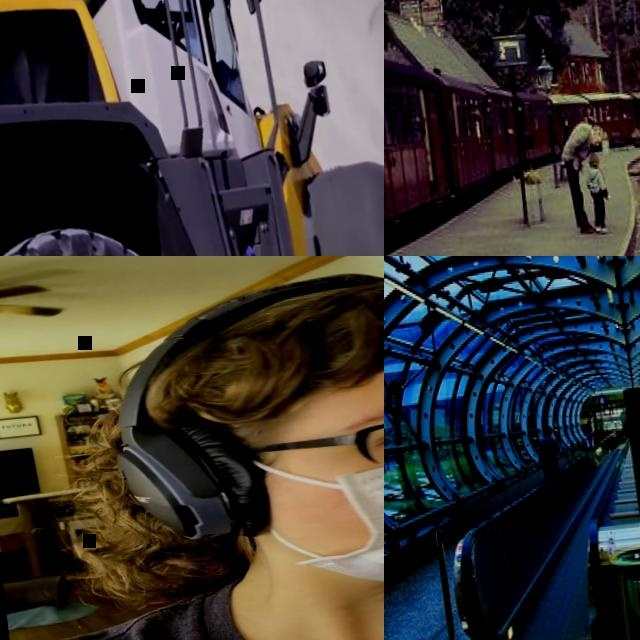Mask: (234, 426, 384, 606)
NO-Hardhat: (136, 260, 384, 426), (588, 152, 600, 166), (593, 125, 602, 141), (540, 426, 551, 437), (586, 429, 588, 433)
NO-Mask: (589, 133, 597, 147), (596, 163, 601, 169)
NO-Safety Vest: (4, 559, 384, 640), (562, 122, 592, 164), (537, 435, 556, 470), (586, 167, 604, 193), (584, 431, 590, 441)
Person: (0, 256, 384, 640), (556, 118, 612, 235), (582, 151, 614, 234), (534, 425, 562, 479), (121, 0, 163, 26), (584, 428, 591, 447)
machinery: (0, 0, 384, 256)
